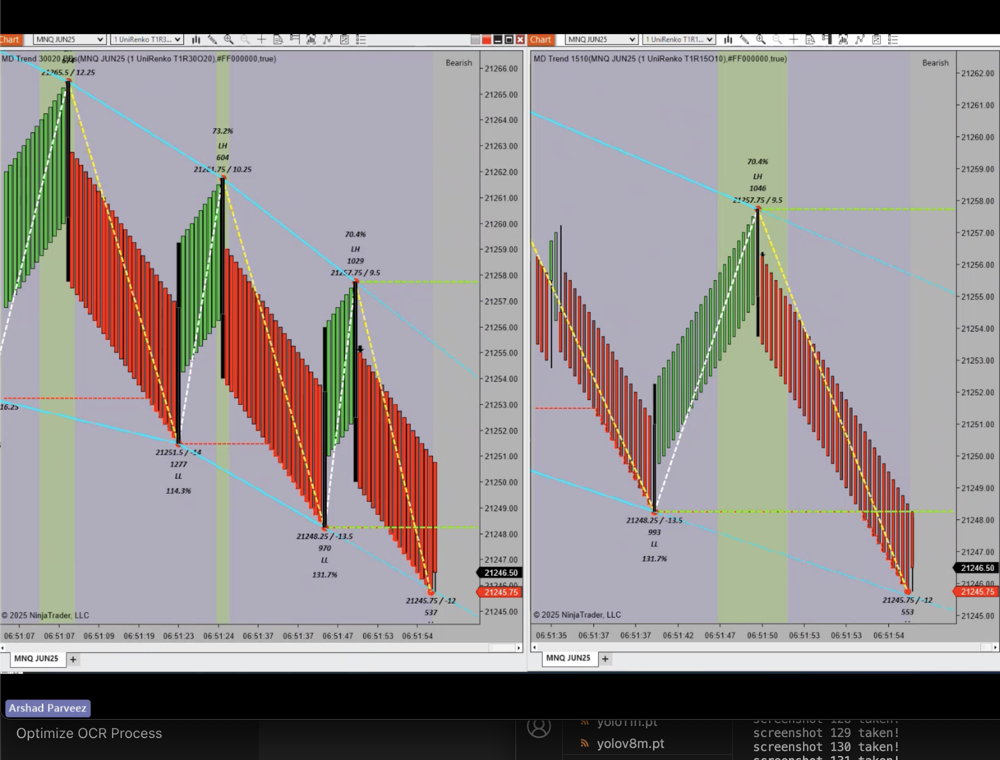LH: (747, 167, 775, 189), (211, 136, 237, 155), (342, 243, 370, 257)
LL: (166, 467, 191, 485), (314, 551, 339, 566), (646, 537, 664, 552)
